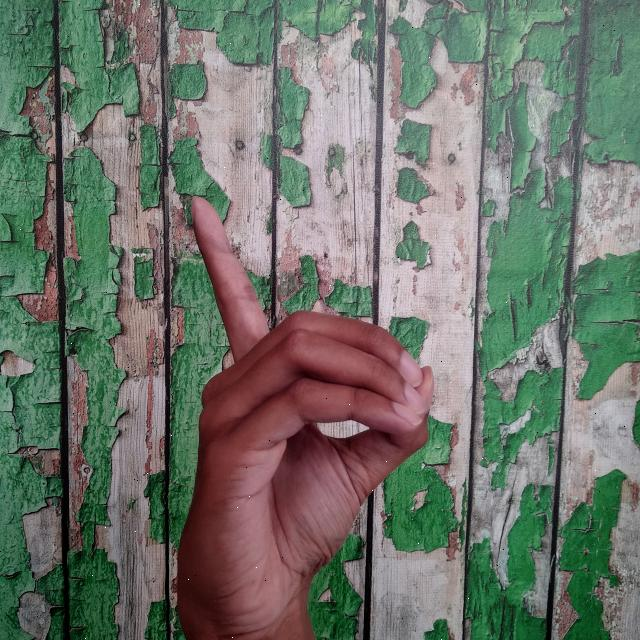D: (173, 194, 434, 640)
